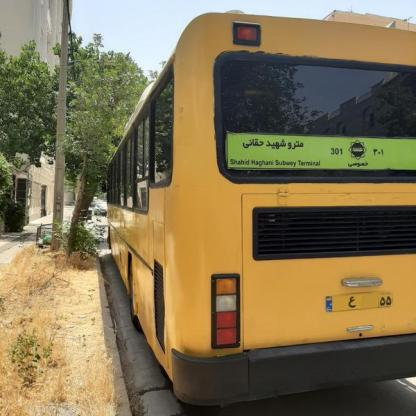Bus: (95, 0, 416, 416)
